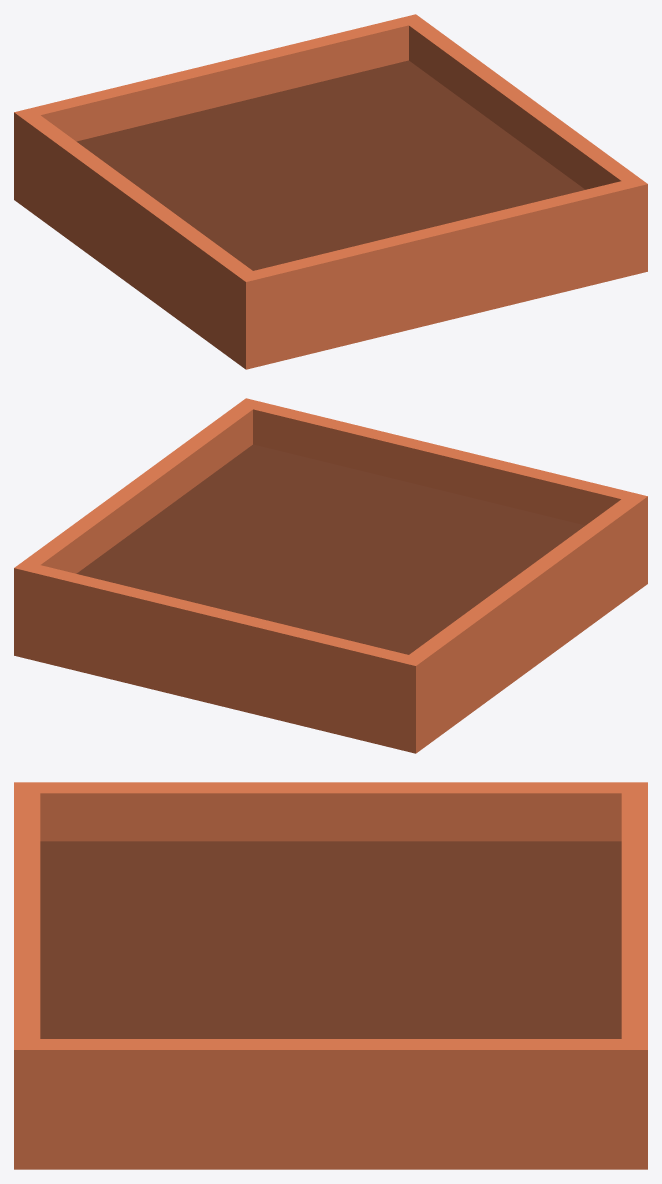
The model's file is CropPlot_Small.fbx.
3 renders of one model, top to bottom at view 1: azimuth 30°, elevation 25°; view 2: azimuth 150°, elevation 25°; view 3: azimuth 270°, elevation 25°, orthographic. The views are drawn at different scales.
Visible parts, largest first — view 1: CropPlot_Small_Geo; view 2: CropPlot_Small_Geo; view 3: CropPlot_Small_Geo.
Boxes of the visible parts, x1=… form: CropPlot_Small_Geo: x1=14, y1=14, x2=647, y2=369; CropPlot_Small_Geo: x1=14, y1=398, x2=647, y2=753; CropPlot_Small_Geo: x1=14, y1=782, x2=647, y2=1169.
Size of the model in its own units: 1.2 by 0.25 by 1.2.
